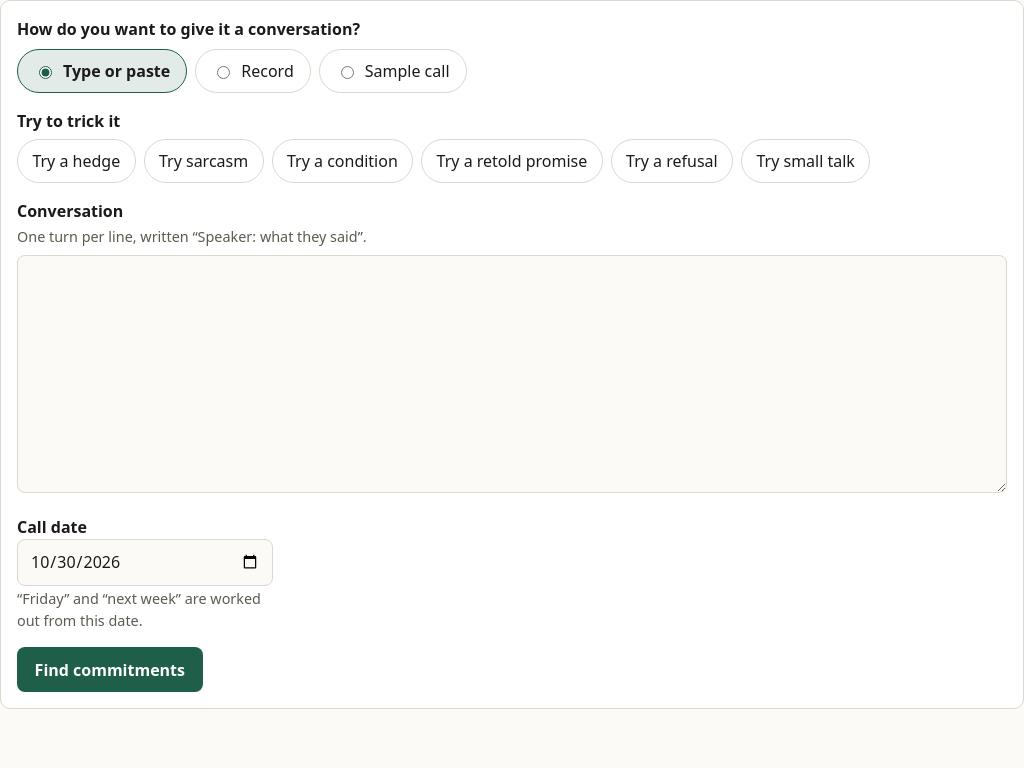
Demo in sample mode › says so when the list cannot be loaded
The image size is (1024, 768).
Expected: the date field labelled "Call date" is not empty, x1=17 y1=539 x2=273 y2=586
Click the radio button labelled "Sample call": point(347, 72) x1=341 y1=66 x2=354 y2=79
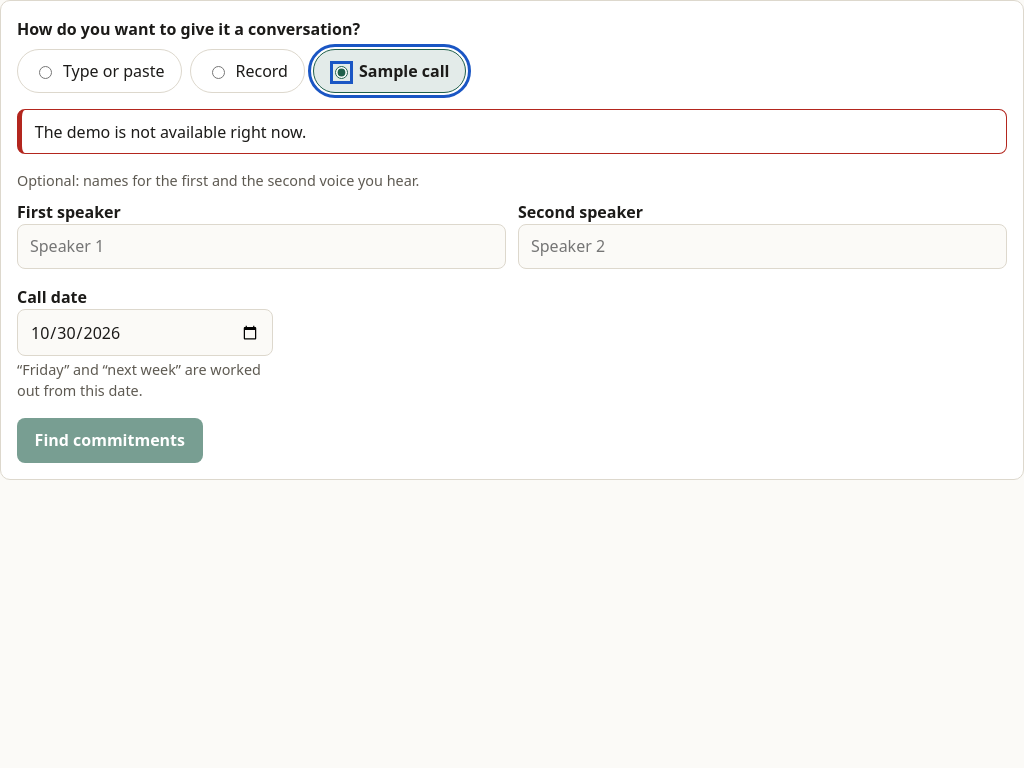
Now the message "The demo is not available right now." is shown, box x1=17 y1=109 x2=1007 y2=154
